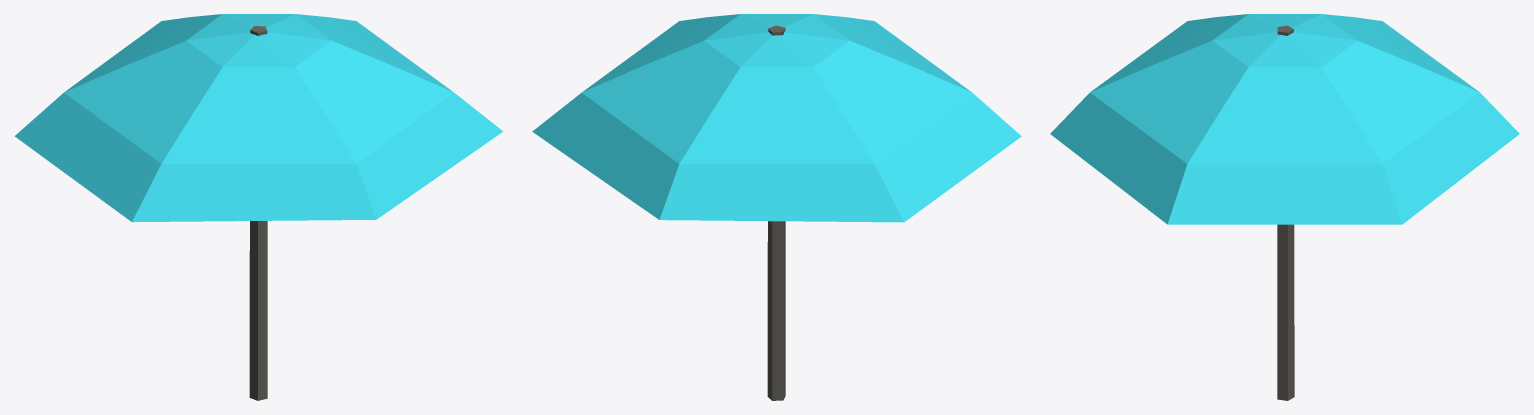
File: sunshade.fbx
3 renders of one model, left to right at view 1: azimuth 30°, elevation 25°; view 2: azimuth 150°, elevation 25°; view 3: azimuth 270°, elevation 25°, orthographic.
Parts seen in each view (by area): view 1: Sphere, Cylinder; view 2: Sphere, Cylinder; view 3: Sphere, Cylinder.
Part boxes in pixels (x1,y1,x2,y2): Sphere: (14, 14, 502, 222); Cylinder: (249, 26, 267, 400); Sphere: (532, 14, 1021, 222); Cylinder: (767, 25, 785, 400); Sphere: (1050, 14, 1519, 224); Cylinder: (1277, 25, 1294, 400).
Bounding box in the file's own units: 166 × 157 × 182.
